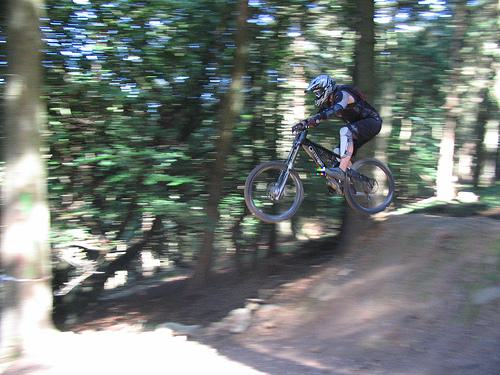car: (242, 120, 401, 222)
person: (294, 75, 380, 184)
